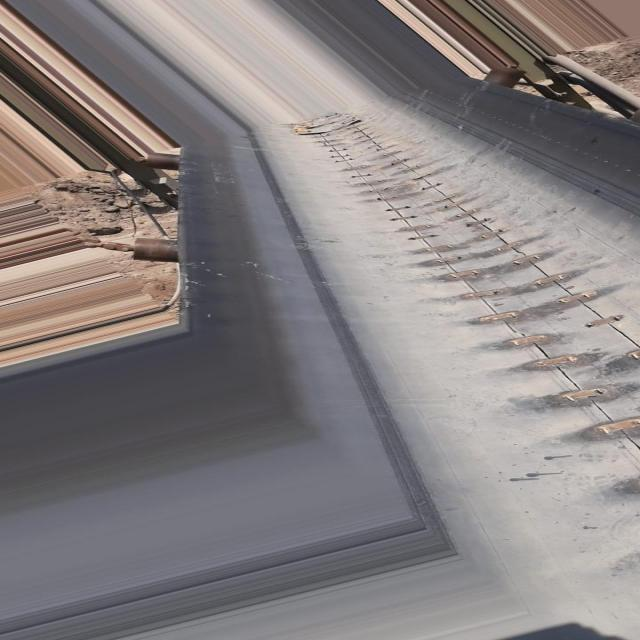Roller: (480, 60, 538, 92), (129, 236, 181, 257)
patch work: (283, 94, 640, 483)
